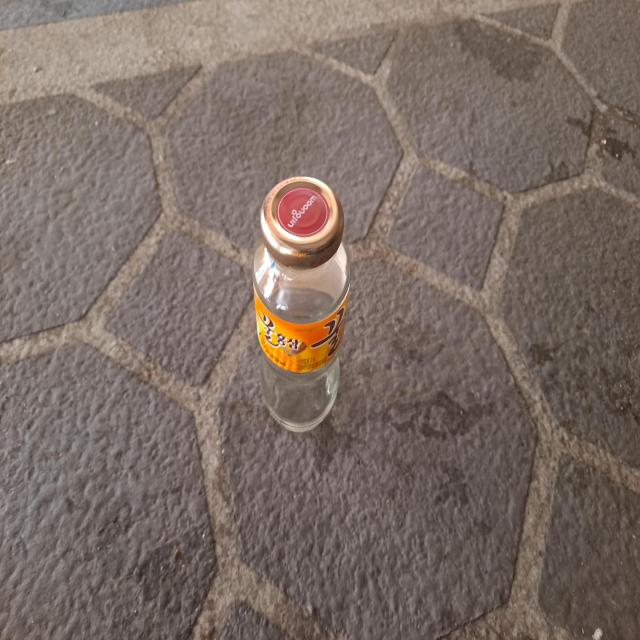glass: (253, 176, 350, 432)
